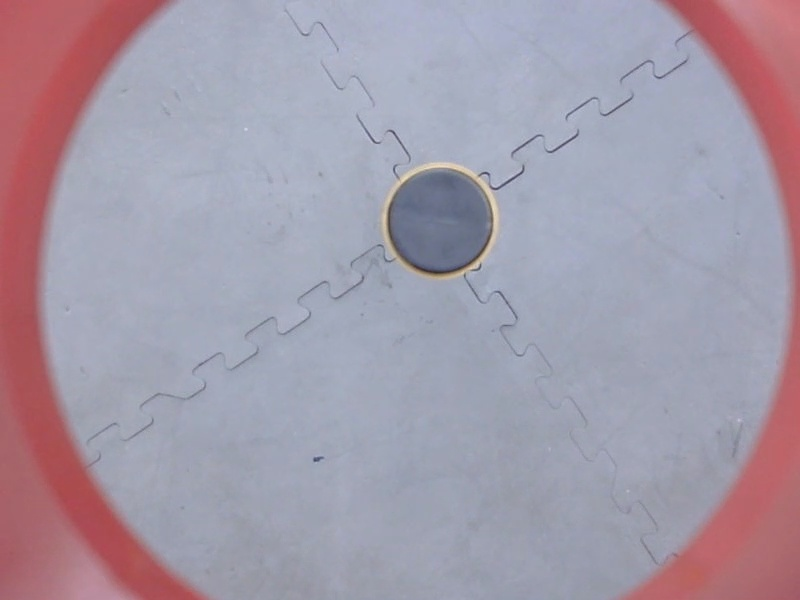tip: (377, 158, 504, 283)
